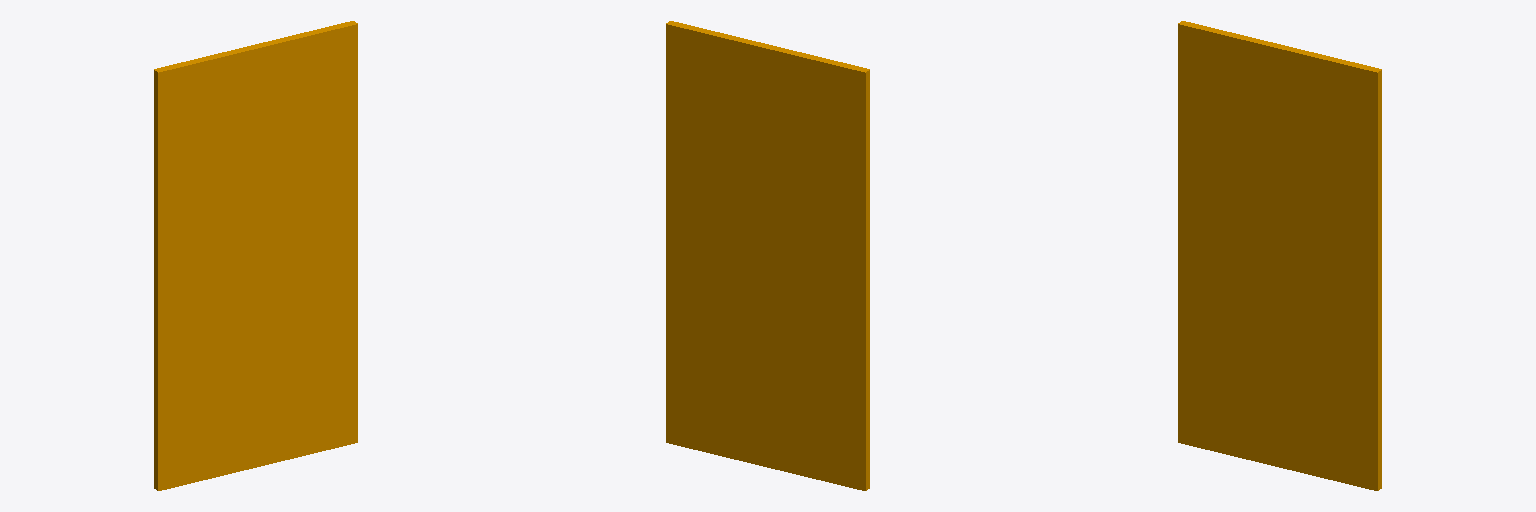
The robot description file, URDF, robot "platey":
<?xml version="1.0"?>
<robot name="platey">
    <link name="platey">
        <visual>
            <geometry>
                <mesh filename="../mesh/factory_insertion/platey.obj" scale="0.5 1 1"/>
            </geometry>
        </visual>
        <collision>
            <geometry>
                <mesh filename="../mesh/factory_insertion/platey.obj" scale="0.5 1 1"/>
            </geometry>
             <!-- sdf resolution="256"-->
        </collision>
    </link>
</robot>

--- Render facts (derived) ---
Views: 3 orthographic renders of the robot side by side, from view 1: azimuth 30°, elevation 25°; view 2: azimuth 150°, elevation 25°; view 3: azimuth 330°, elevation 25°.
Robot: platey — 1 links, 0 joints (none); root link platey; default pose: all joints at 0.
Visible links, largest first — view 1: platey; view 2: platey; view 3: platey.
Boxes of the visible links, x1=… form: platey: x1=154, y1=21, x2=357, y2=490; platey: x1=666, y1=21, x2=869, y2=490; platey: x1=1178, y1=21, x2=1381, y2=490.
Bounding box of the posed robot: 0.5 × 0.0203 × 1 m (x, y, z).
1 mesh visuals loaded from 1 distinct referenced files (1 OBJ).
